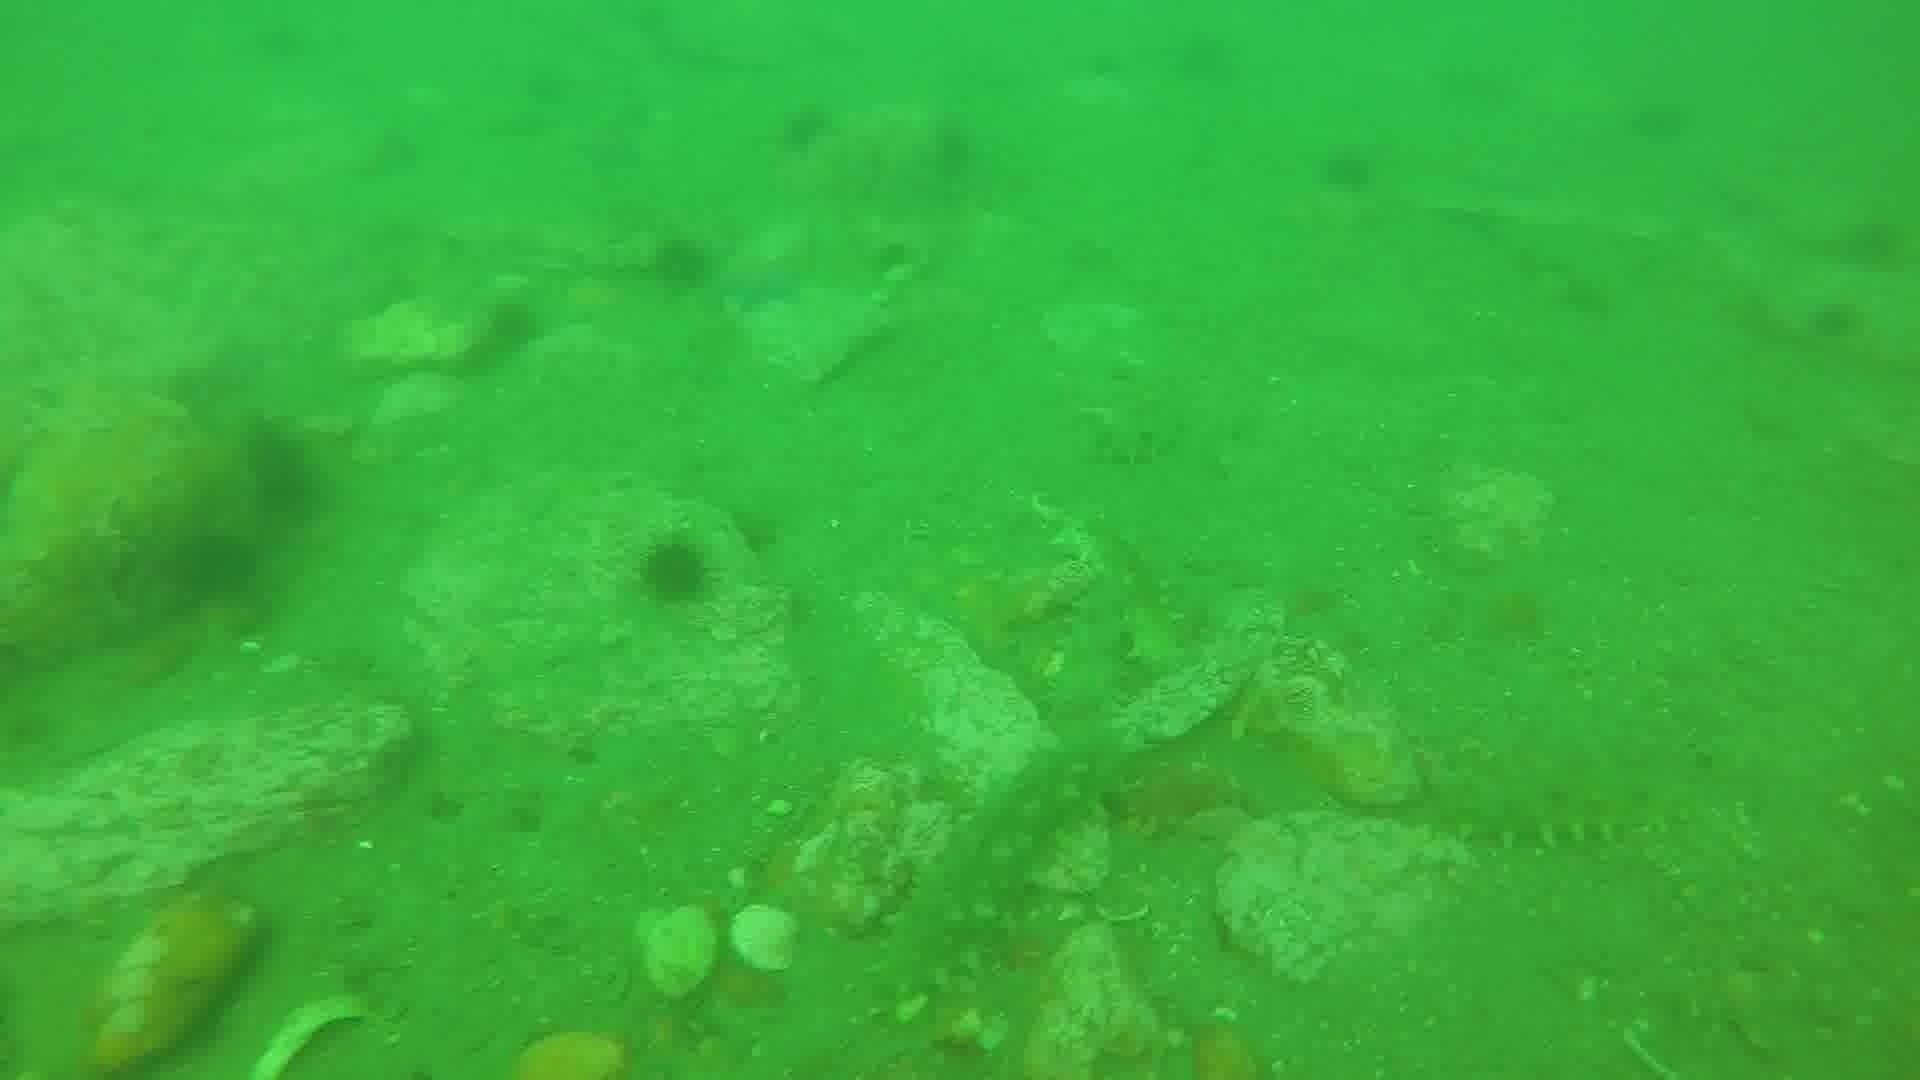echinus: (233, 421, 324, 527), (164, 524, 264, 608), (633, 534, 717, 609), (476, 295, 549, 361), (644, 232, 717, 297), (1625, 91, 1696, 149), (1315, 142, 1379, 198), (774, 100, 833, 158), (727, 502, 786, 560), (1179, 36, 1236, 84)
holothurian: (870, 737, 1125, 1000), (1400, 760, 1681, 855)
starfish: (713, 243, 818, 316)
